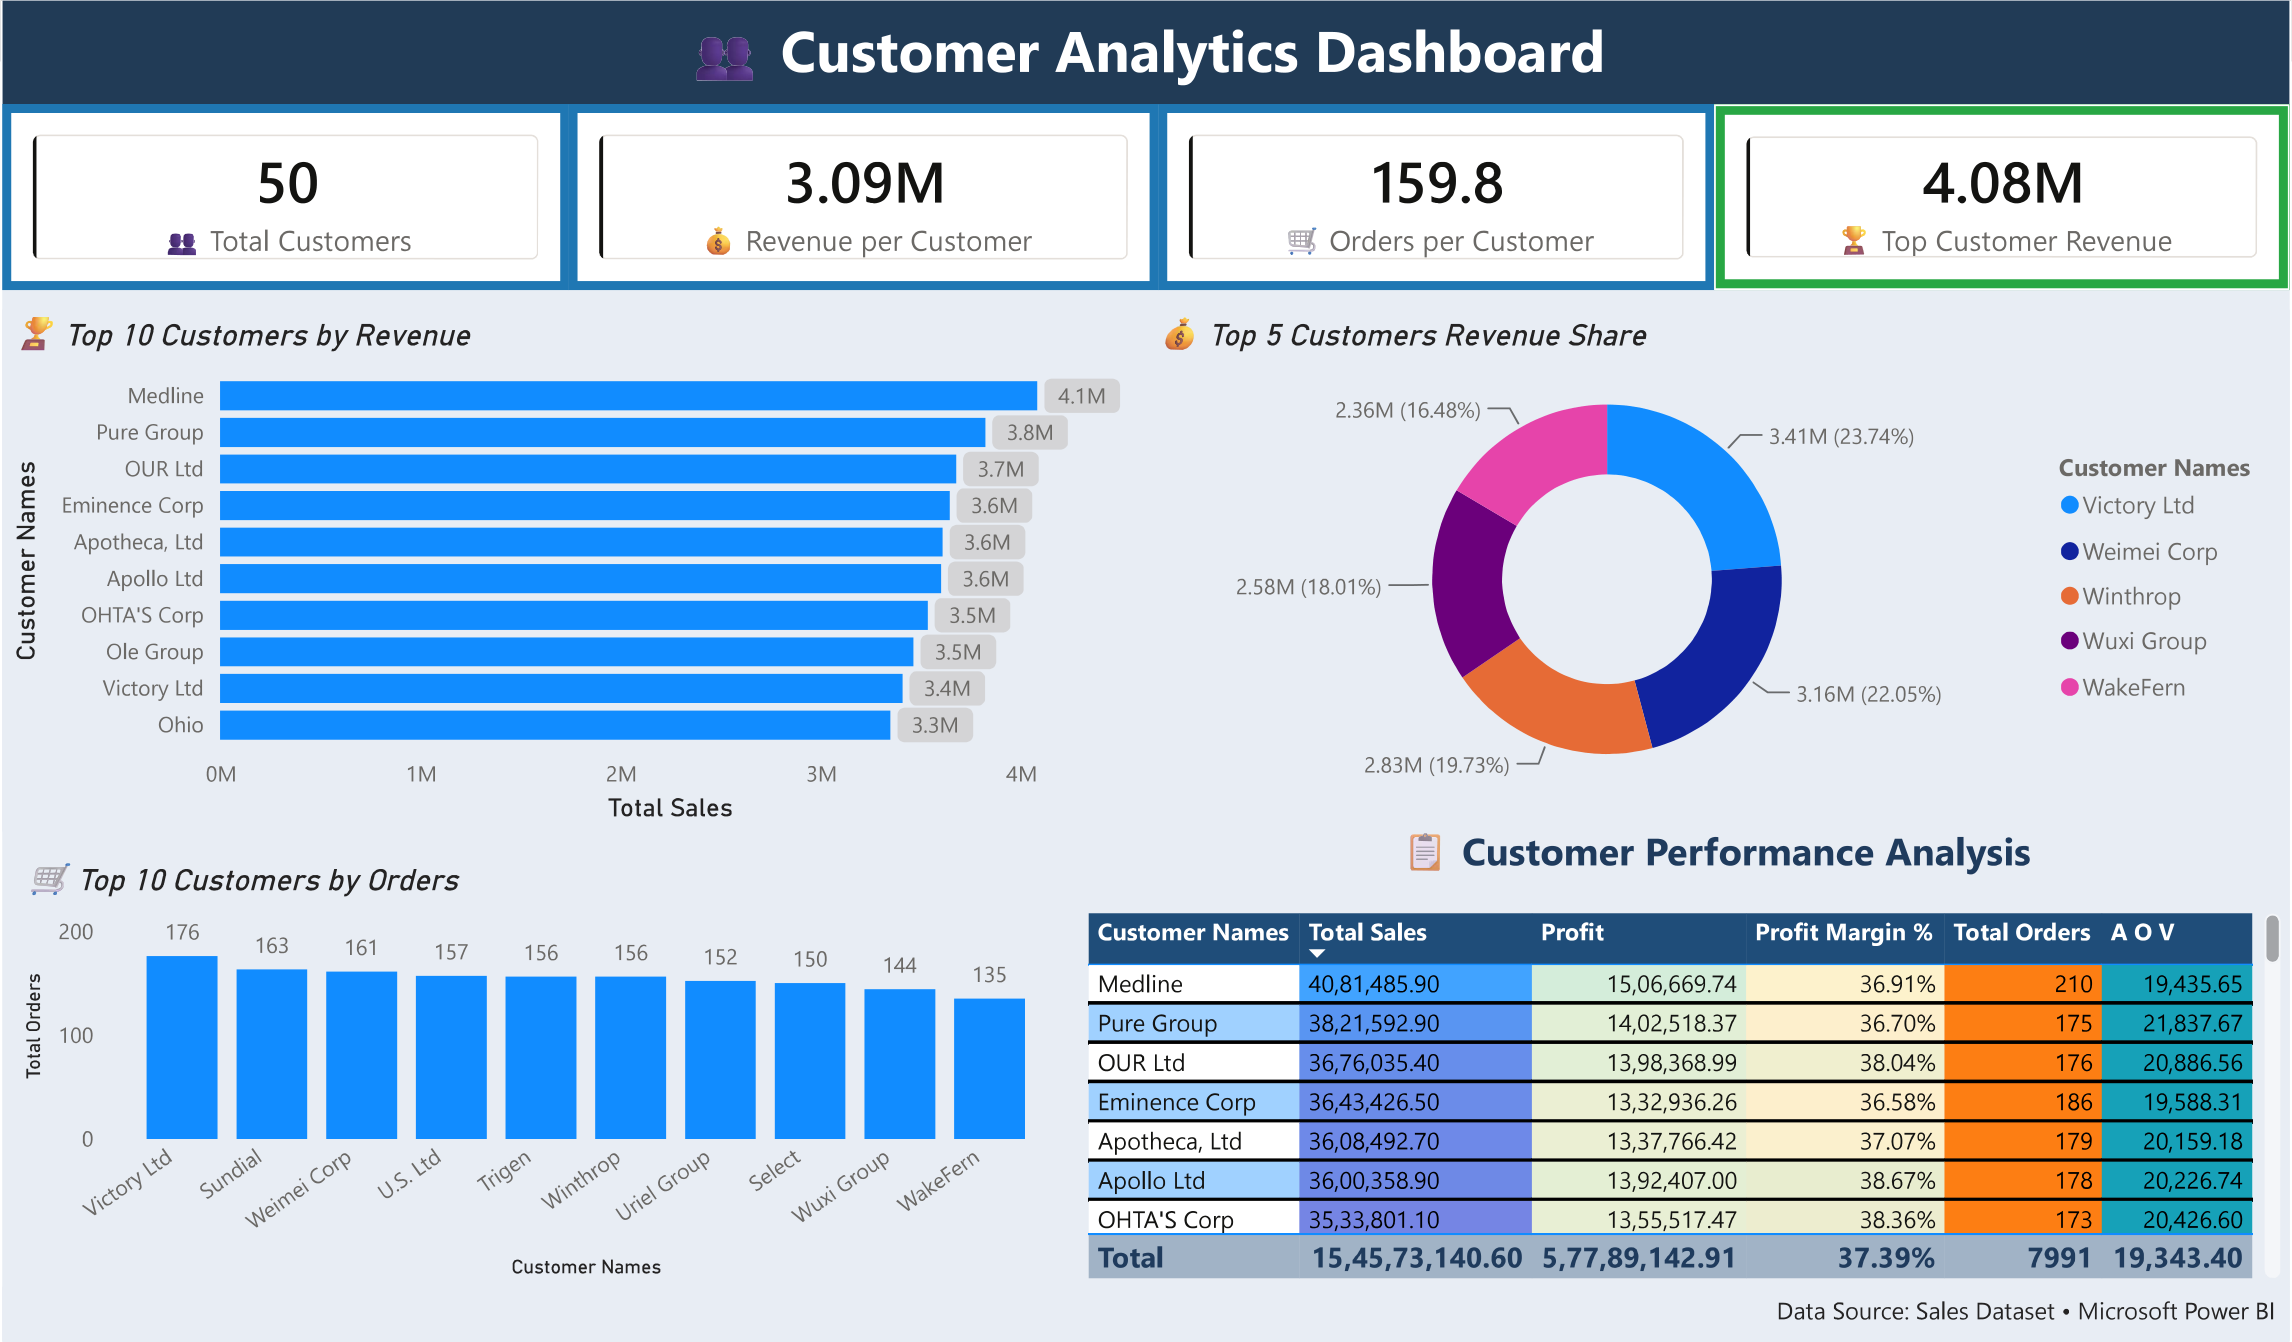

What the dashboard file says about the page in this screenshot:
{"tool":"powerbi","page":{"name":"Page 2","canvas":[1280,750],"ordinal":1},"visuals":[{"type":"textbox","box":[0,0,1280.3,57.6],"z":0},{"type":"cardVisual","fields":{"Data":["KPI_Measures2.Total Customers"]},"box":[0,58,317,104],"z":1000},{"type":"cardVisual","fields":{"Data":["KPI_Measures2.Revenue Per Customer"]},"box":[317,58,330,104],"z":2000},{"type":"cardVisual","fields":{"Data":["KPI_Measures2.Orders Per Customer"]},"box":[647,58,311,104],"z":3000},{"type":"cardVisual","fields":{"Data":["KPI_Measures2.Top Customer Revenue"]},"box":[958,58,322,104],"z":4000},{"type":"clusteredBarChart","title":"🏆 Top 10 Customers by Revenue","fields":{"Category":["Customers.Customer Names"],"Y":["KPI_Measures1.Total Sales"]},"box":[0,173,640,292],"z":5000},{"type":"donutChart","title":"💰 Top 5 Customers Revenue Share","fields":{"Category":["Customers.Customer Names"],"Y":["KPI_Measures1.Total Sales"]},"box":[640,173,640,283],"z":6000},{"type":"clusteredColumnChart","title":"🛒 Top 10 Customers by Orders","fields":{"Category":["Customers.Customer Names"],"Y":["KPI_Measures1.Total Orders"]},"box":[6.9,477.5,591.4,242.9],"z":7000},{"type":"tableEx","fields":{"Values":["Customers.Customer Names","KPI_Measures1.Total Sales","KPI_Measures1.Profit","KPI_Measures1.Profit Margin %","KPI_Measures1.Total Orders","KPI_Measures1.Avg Order Value"]},"box":[602.4,506.3,677.9,214.1],"z":8000},{"type":"textbox","box":[636.7,455.6,643.6,50.8],"z":9000},{"type":"textbox","box":[0,720.4,1280.3,30.2],"z":10000}]}

Visuals, with their boxes in screenshot pixels (x1, y1, x2, y2), scaled from the page's 1280x750 canvas onto the 2292x1342 screenshot:
textbox: [left=0, top=0, right=2291, bottom=103]
cardVisual - KPI_Measures2.Total Customers: [left=0, top=104, right=568, bottom=290]
cardVisual - KPI_Measures2.Revenue Per Customer: [left=568, top=104, right=1159, bottom=290]
cardVisual - KPI_Measures2.Orders Per Customer: [left=1159, top=104, right=1715, bottom=290]
cardVisual - KPI_Measures2.Top Customer Revenue: [left=1715, top=104, right=2291, bottom=290]
"🏆 Top 10 Customers by Revenue" clusteredBarChart: [left=0, top=310, right=1146, bottom=832]
"💰 Top 5 Customers Revenue Share" donutChart: [left=1146, top=310, right=2291, bottom=816]
"🛒 Top 10 Customers by Orders" clusteredColumnChart: [left=12, top=854, right=1071, bottom=1289]
tableEx - Customers.Customer Names x KPI_Measures1.Total Sales: [left=1079, top=906, right=2291, bottom=1289]
textbox: [left=1140, top=815, right=2291, bottom=906]
textbox: [left=0, top=1289, right=2291, bottom=1341]
